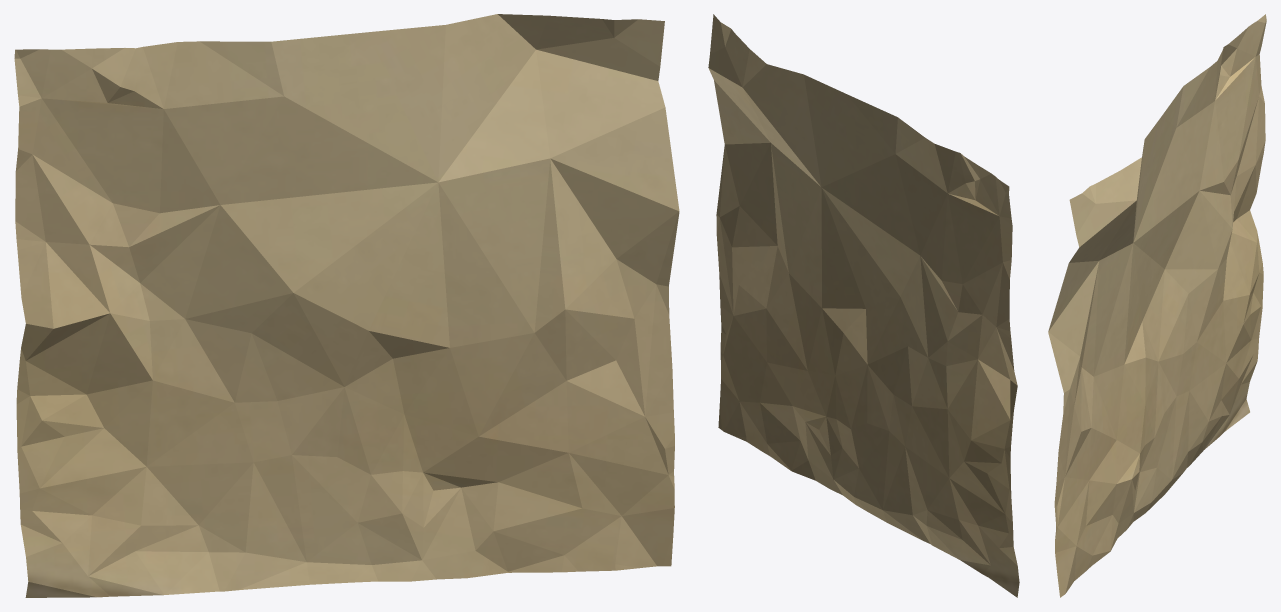
3 renders of one model, left to right at view 1: azimuth 30°, elevation 25°; view 2: azimuth 150°, elevation 25°; view 3: azimuth 270°, elevation 25°, orthographic. The views are drawn at different scales.
Size of the model in its own units: 0.8374 by 0.8374 by 0.4166.
Materials: 3 (3 with a texture image).
